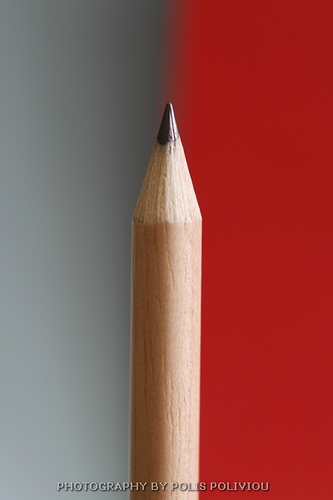pen_tip: (127, 95, 211, 239)
